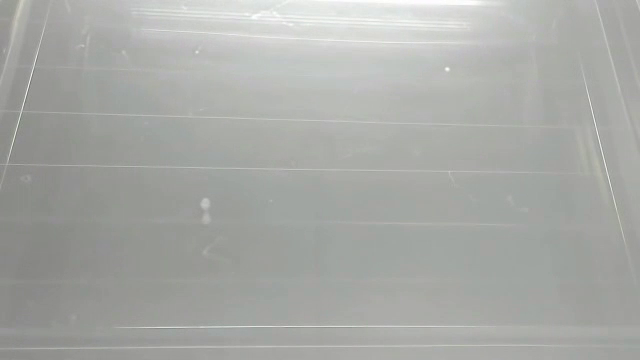alpha: (198, 196, 216, 227)
